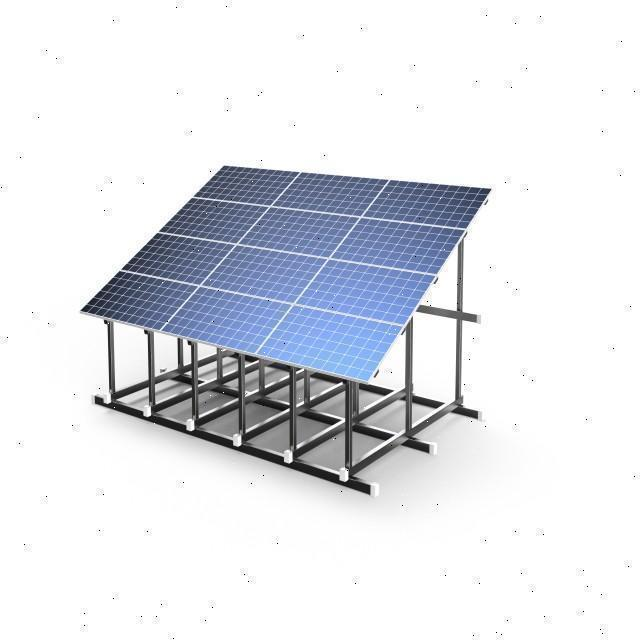Normal Solar Panel: (78, 153, 490, 389)
